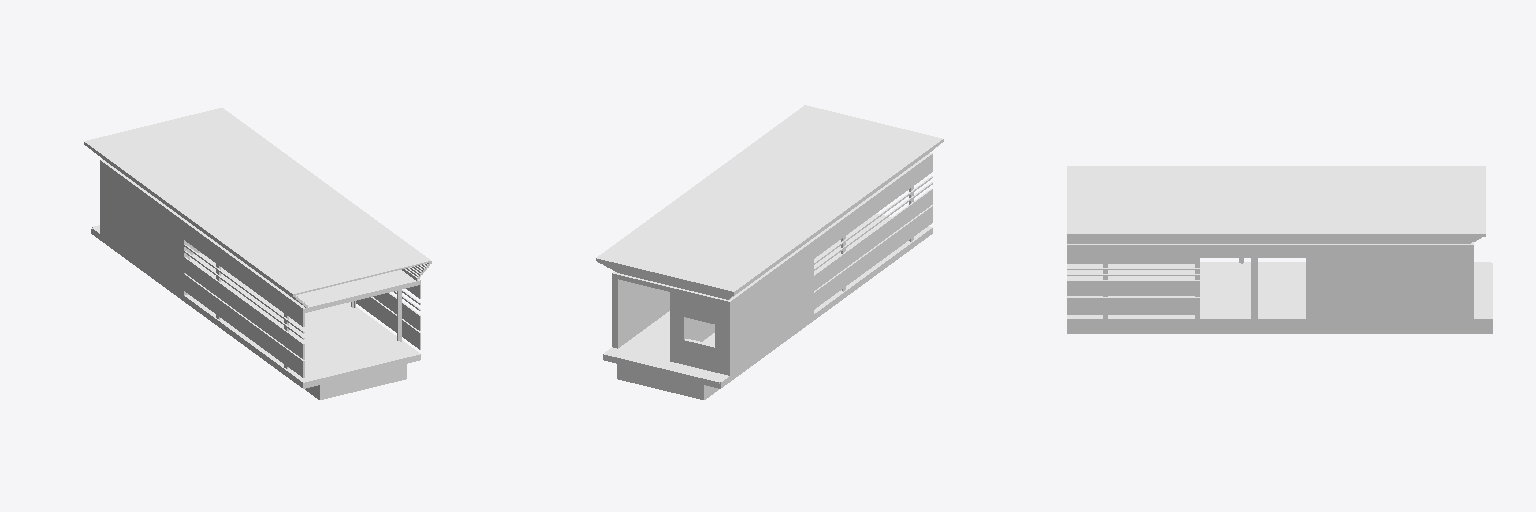
The model's file is Estación-1.obj.
3 views of the same model, side by side, from view 1: azimuth 30°, elevation 25°; view 2: azimuth 150°, elevation 25°; view 3: azimuth 270°, elevation 25° (orthographic).
Parts seen in each view (by area): view 1: object 1; view 2: object 1; view 3: object 1.
Part boxes in pixels (x1,y1,x2,y2): object 1: (84,108,431,399); object 1: (596,105,943,399); object 1: (1067,166,1492,333).
Size of the model in its own units: 9.4 by 7.3 by 25.